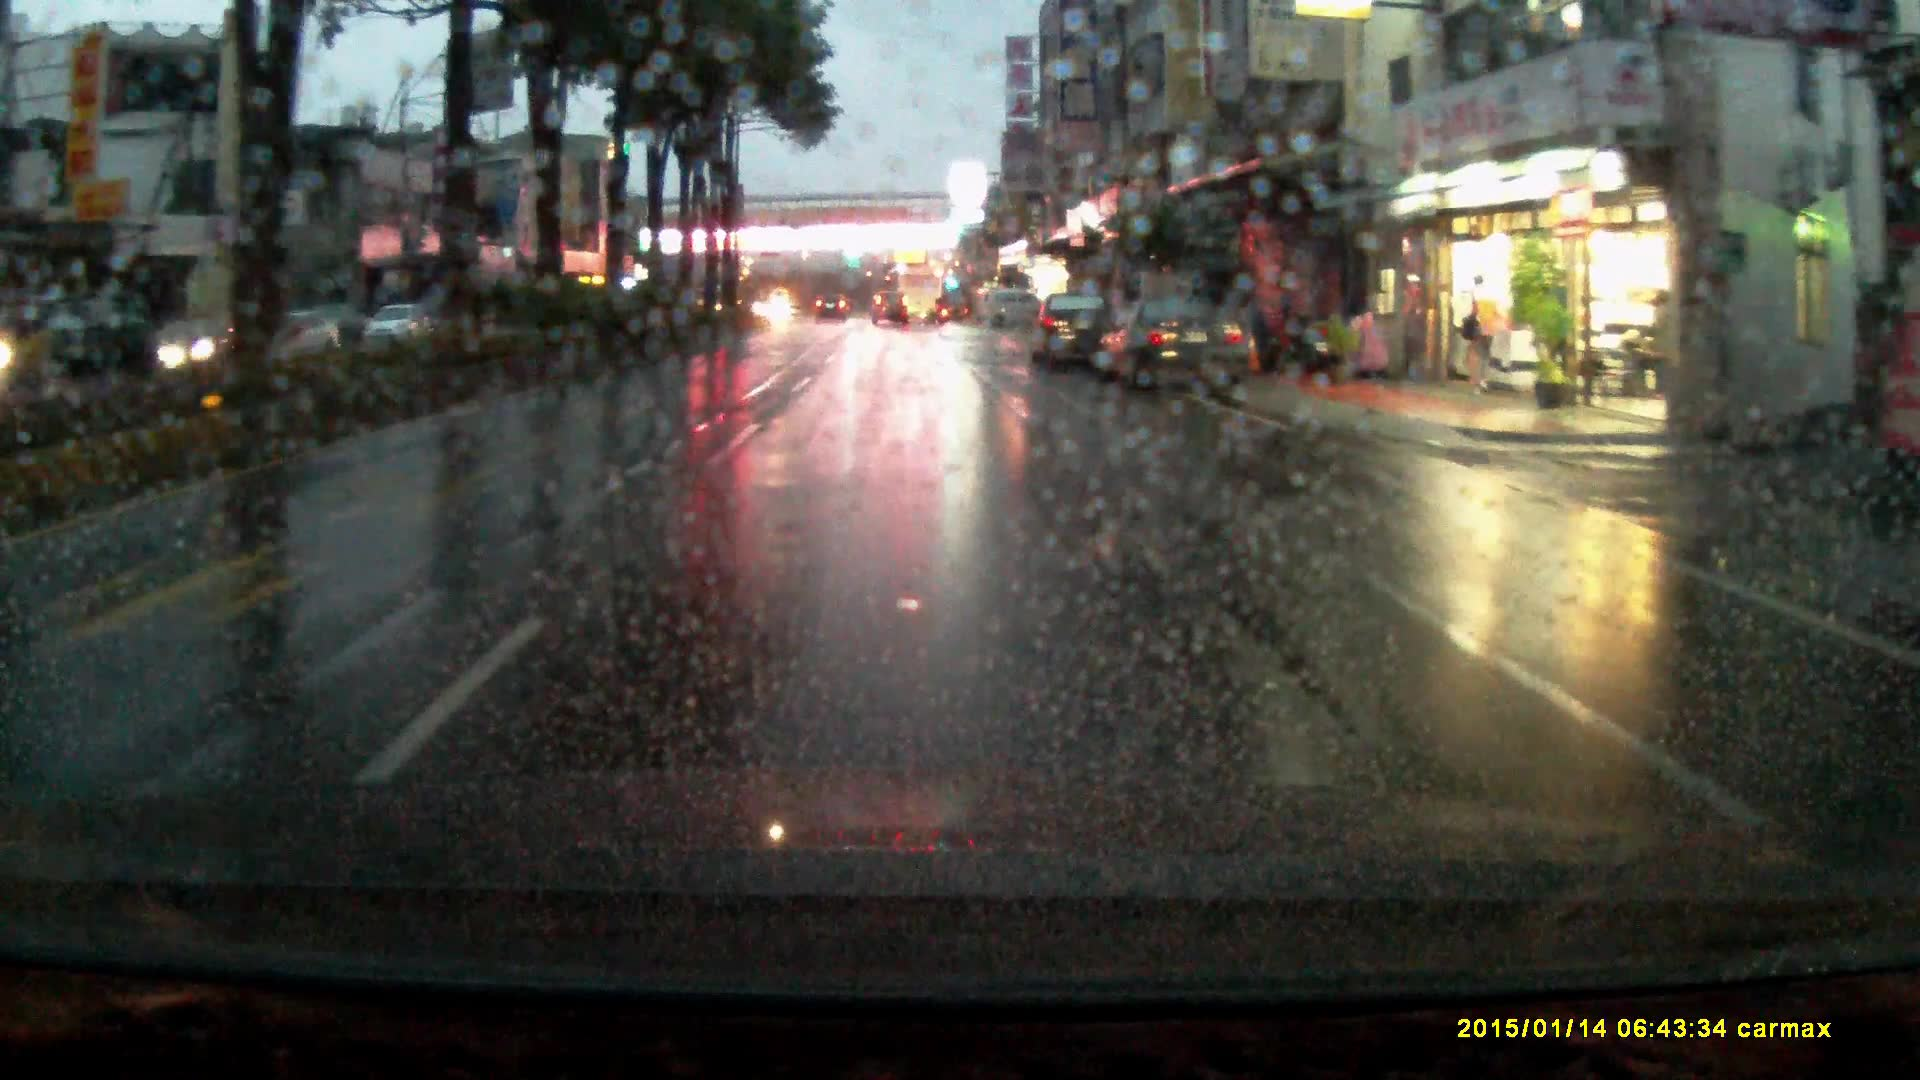rider: (2, 288, 49, 420)
vehicle: (1091, 305, 1253, 403), (1028, 302, 1117, 383), (238, 318, 338, 370), (887, 277, 942, 333), (975, 296, 1044, 338), (364, 310, 428, 353), (869, 302, 909, 335), (812, 301, 852, 330)
